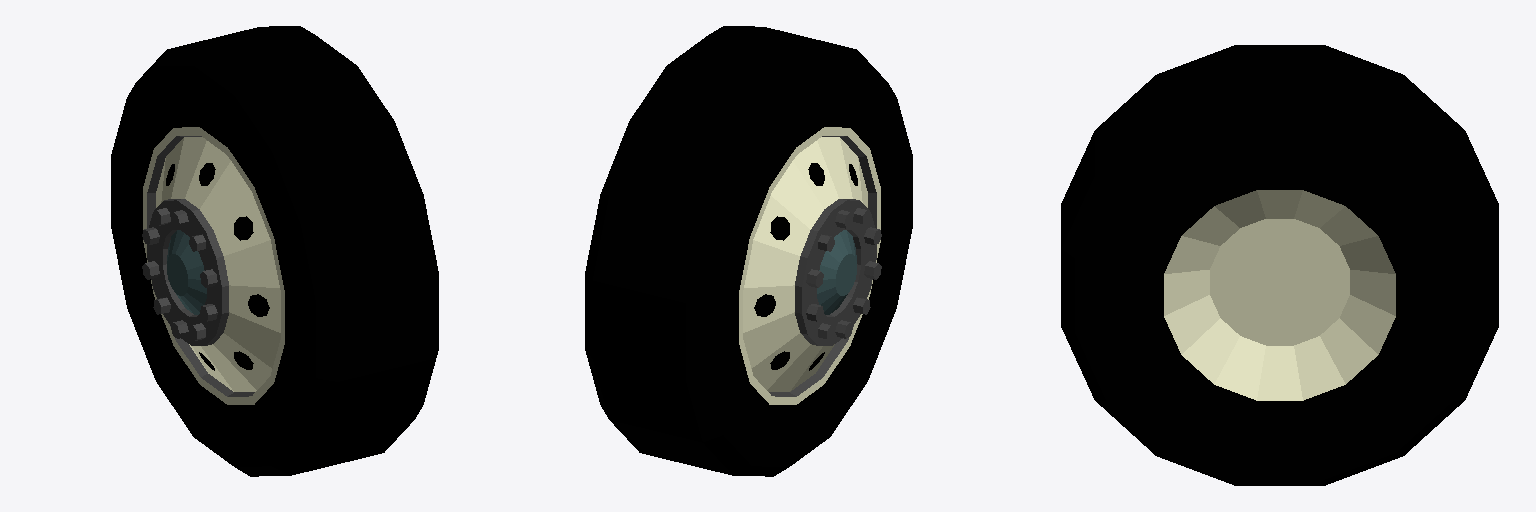
Rendered from wheel01.obj.
The picture shows the model from 3 angles: view 1: azimuth 30°, elevation 25°; view 2: azimuth 150°, elevation 25°; view 3: azimuth 270°, elevation 25°; orthographic projection.
Parts seen in each view (by area): view 1: Wheel01; view 2: Wheel01; view 3: Wheel01.
Part boxes in pixels (bbox=[...]): Wheel01: bbox=[111, 26, 438, 476]; Wheel01: bbox=[585, 26, 912, 476]; Wheel01: bbox=[1061, 45, 1498, 485].
Bounding box in the file's own units: 14.37 × 33.69 × 33.69.